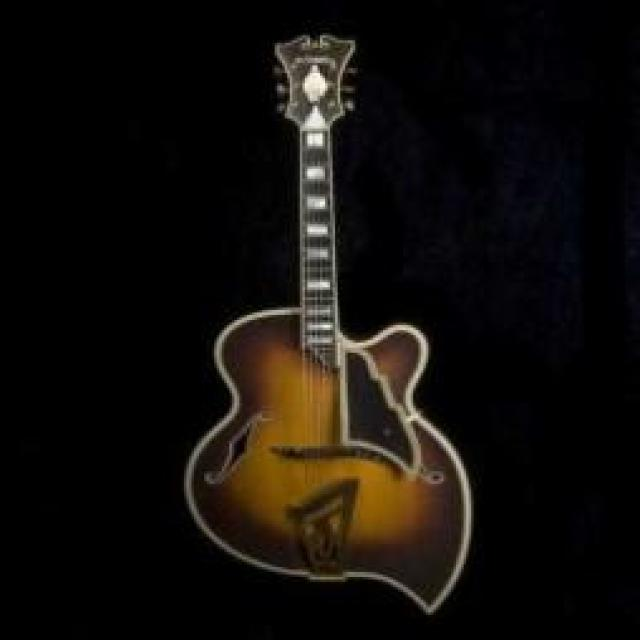acousticguitar: (186, 35, 471, 612)
